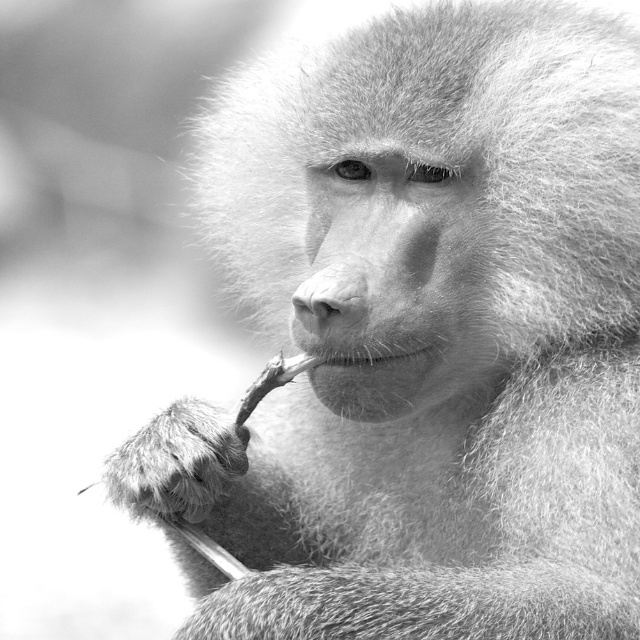Monkey: (103, 0, 640, 640)
